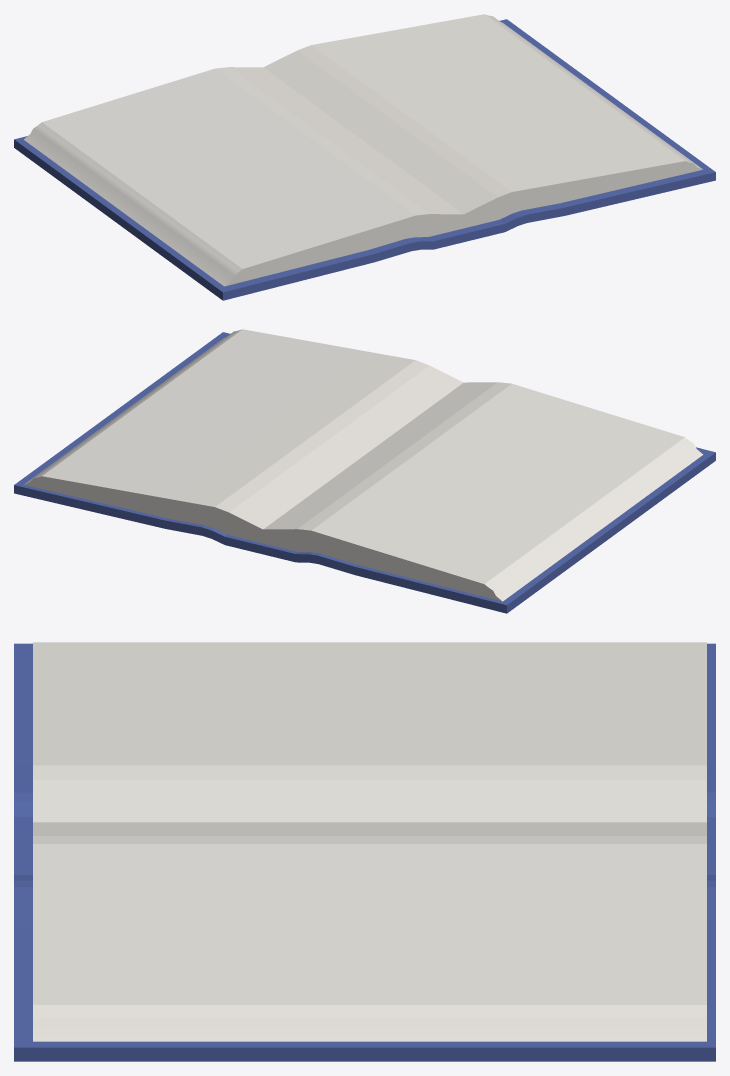
The model's file is book.fbx.
3 views of the same model, one above another, from view 1: azimuth 30°, elevation 25°; view 2: azimuth 150°, elevation 25°; view 3: azimuth 270°, elevation 25° (orthographic). The views are drawn at different scales.
Visible parts, largest first — view 1: pages, cover; view 2: pages, cover; view 3: pages, cover.
Part boxes in pixels (<box>): pages: <box>24,14,702,286</box>; cover: <box>14,19,715,300</box>; pages: <box>24,329,703,601</box>; cover: <box>14,332,715,613</box>; pages: <box>33,642,706,1041</box>; cover: <box>14,643,715,1061</box>.
Bounding box in the file's own units: 5.83 × 0.3732 × 4.29.
